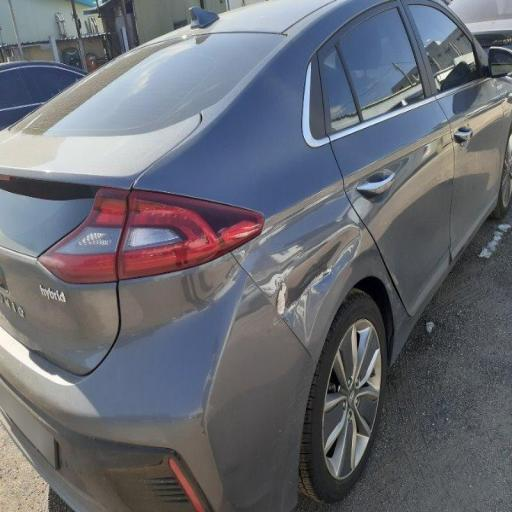scratch: (237, 205, 375, 340)
